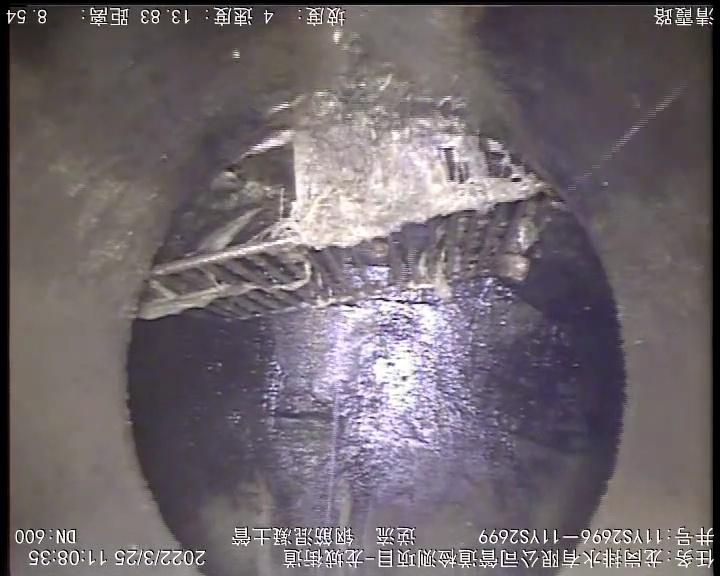ZAW: (136, 107, 563, 319)
